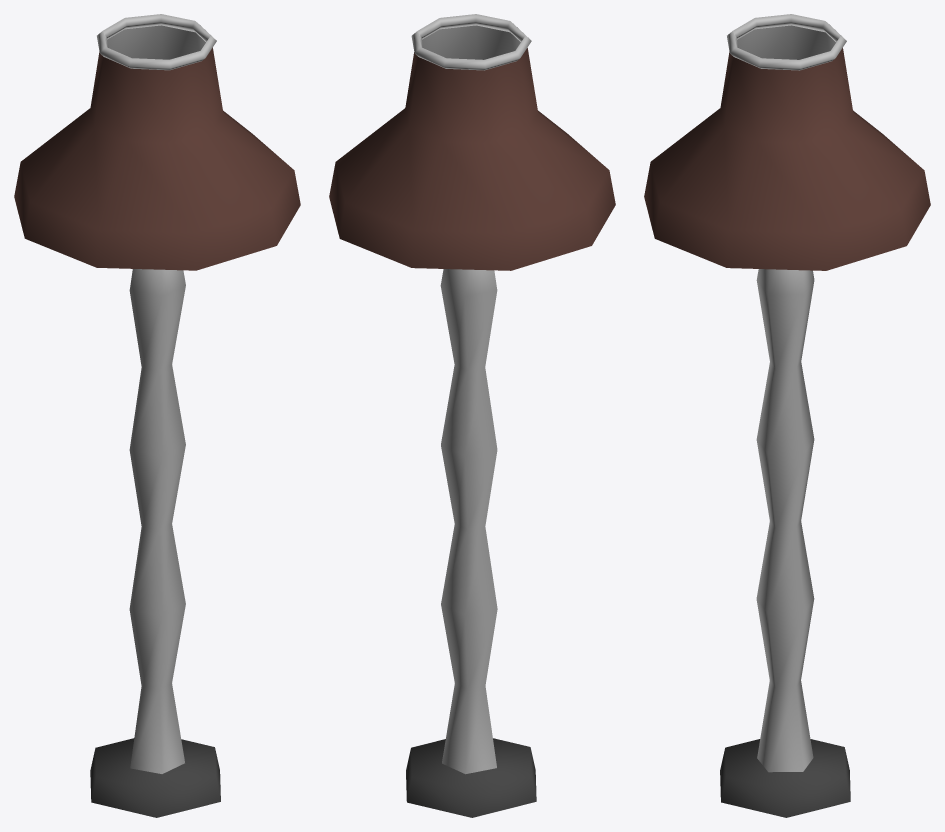
File: Lamp2.fbx
3 renders of one model, left to right at view 1: azimuth 30°, elevation 25°; view 2: azimuth 150°, elevation 25°; view 3: azimuth 270°, elevation 25°, orthographic.
Parts seen in each view (by area): view 1: Lamp2; view 2: Lamp2; view 3: Lamp2.
Boxes of the visible parts, x1,y1,x2,y2 form: Lamp2: (14, 14, 300, 817); Lamp2: (329, 14, 615, 817); Lamp2: (644, 14, 930, 817).
Size of the model in its own units: 24.54 by 71 by 24.63.
